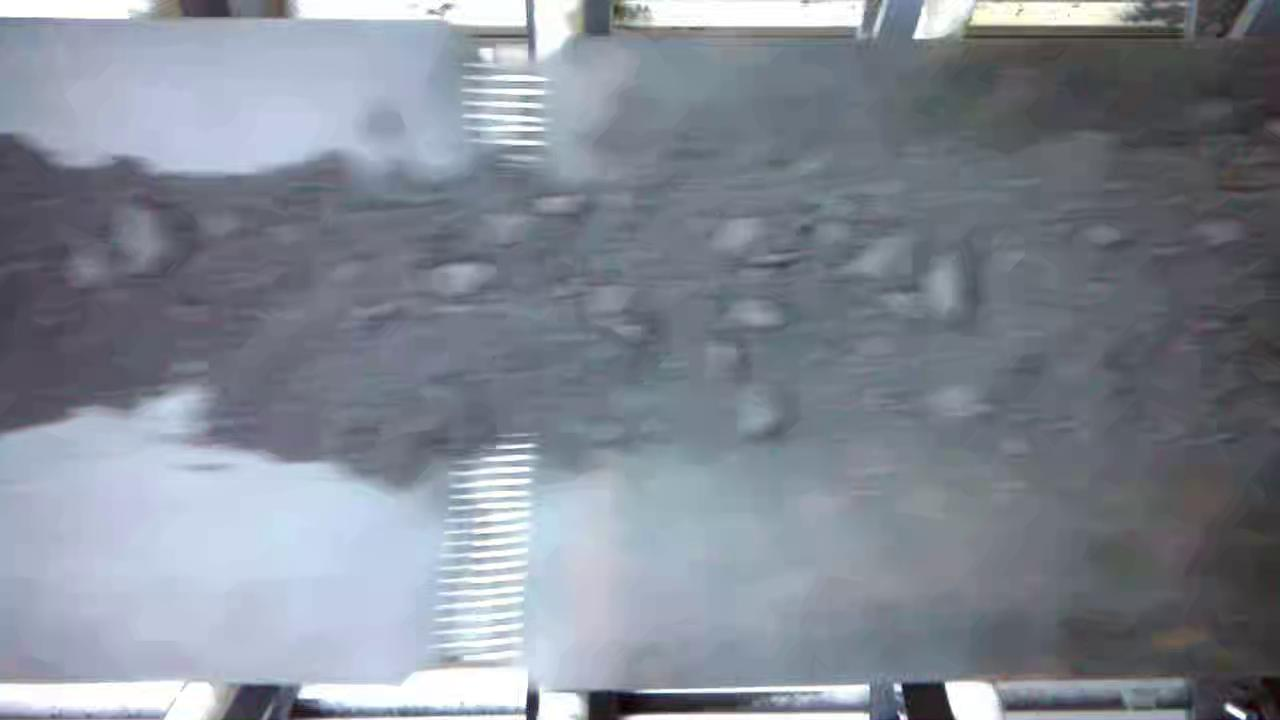conveyor: (0, 40, 1280, 675)
